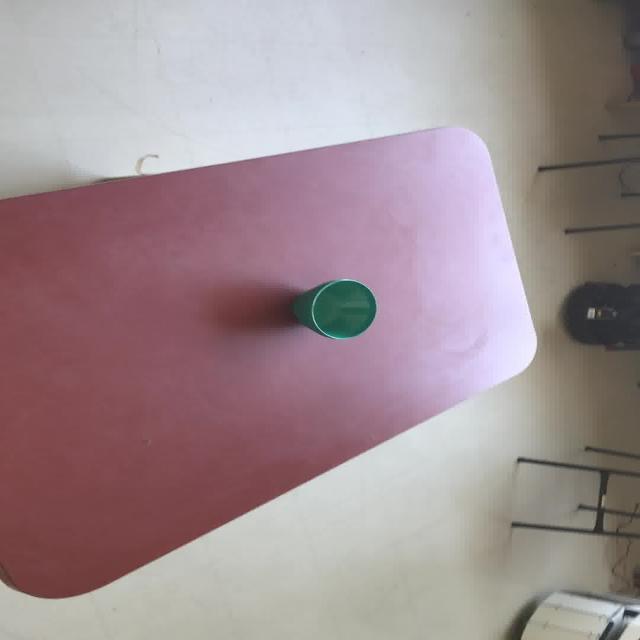bowl: (290, 278, 377, 340)
